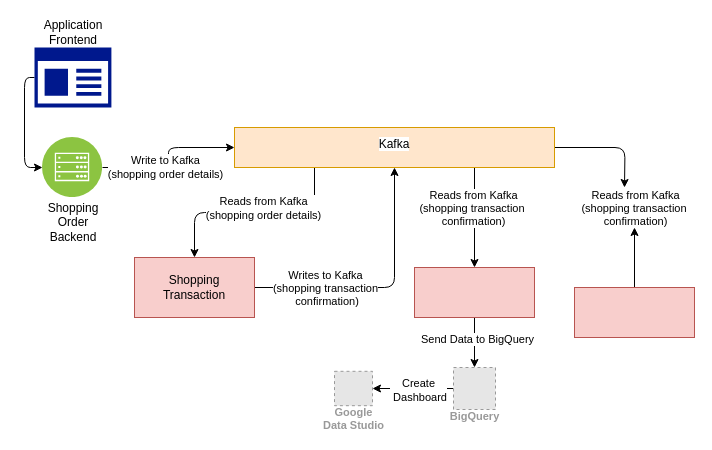
Image size: 712x450. Some labels were removed from this diagram. Grey dashed boxes stand in for pictures. The shapes that lost their labels are listed below. From the top down, each one's centre as x and y in pixels, then its label:
[474,292]: Analytics Backend (Best Sellers Products per Country)
[634,312]: Email Backend (Send email confirmation to user)
